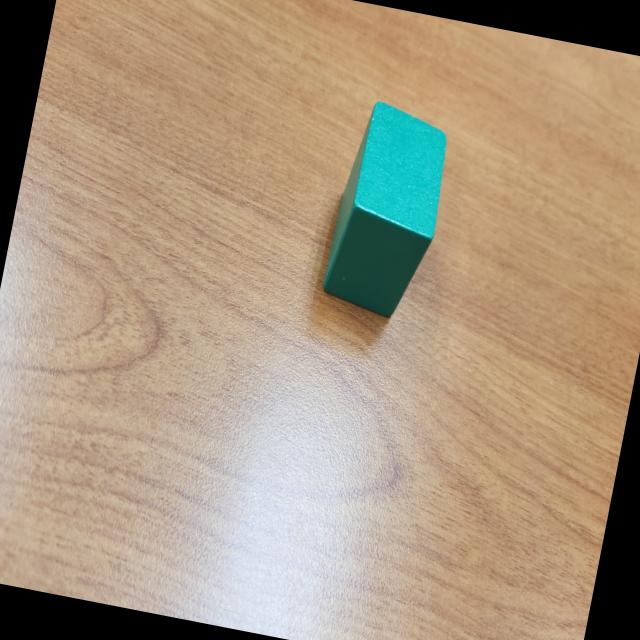green: (318, 97, 457, 325)
